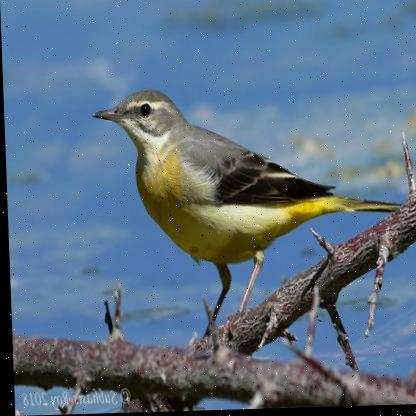Burung: (90, 84, 402, 358)
